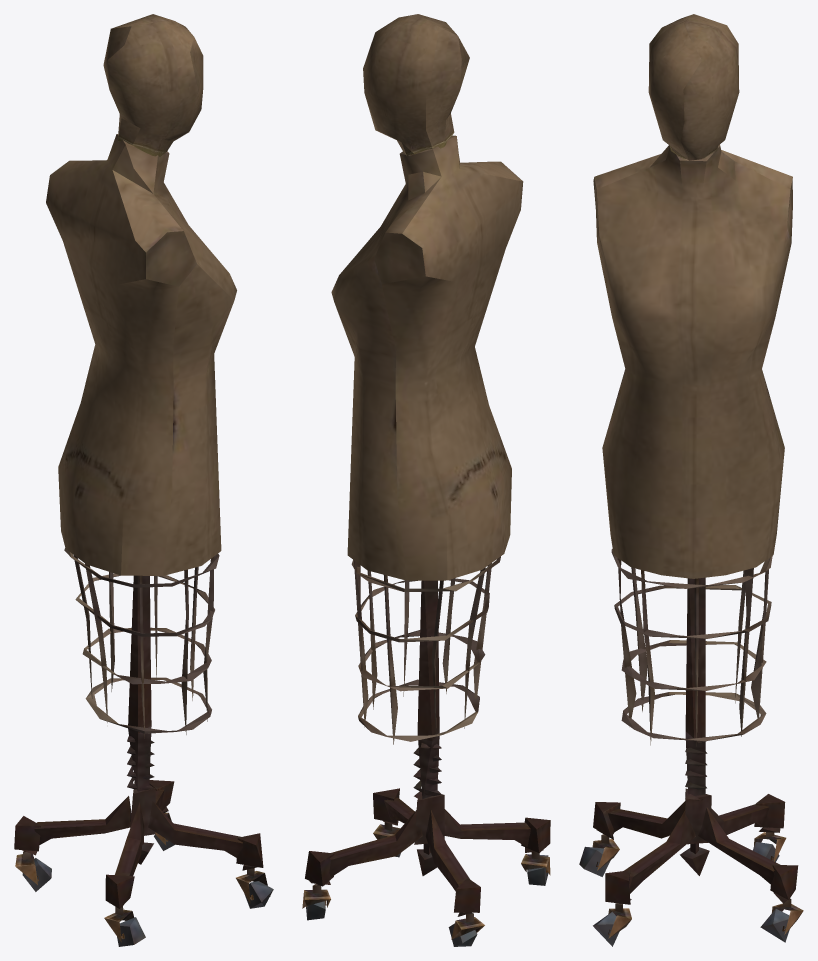
Rendered from mannequin-dress-form.lod1.glb.
3 views of the same model, side by side, from view 1: azimuth 30°, elevation 25°; view 2: azimuth 150°, elevation 25°; view 3: azimuth 270°, elevation 25° (orthographic).
Parts seen in each view (by area): view 1: mannequin-dress-form; view 2: mannequin-dress-form; view 3: mannequin-dress-form.
Boxes of the visible parts, <box> form: mannequin-dress-form: <box>14,14,273,946</box>; mannequin-dress-form: <box>302,14,550,946</box>; mannequin-dress-form: <box>579,14,803,946</box>.
Bounding box in the file's own units: 0.3815 × 1.79 × 0.4096.
Materials: 2 (2 with a texture image).
